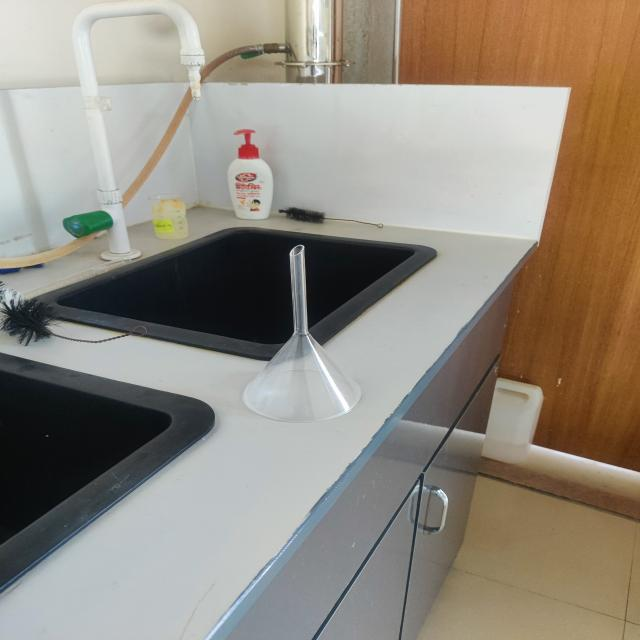Funnel: (228, 215, 388, 442)
